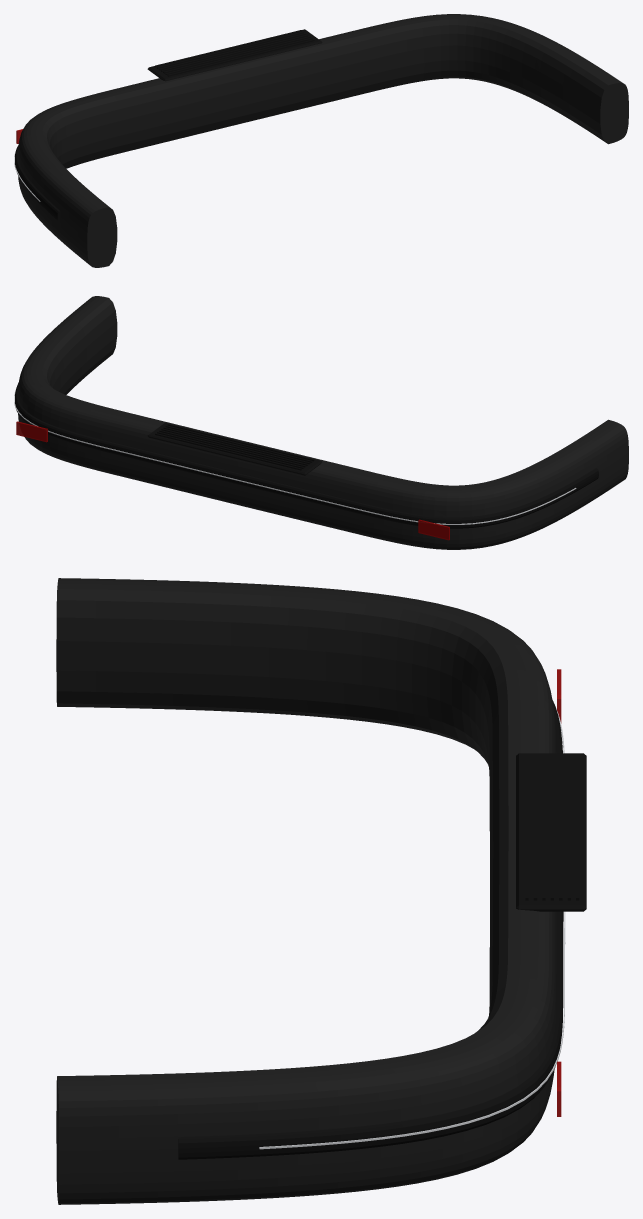
The model's file is para_choque_traseiro_picape.glb.
3 views of the same model, one above another, from view 1: azimuth 30°, elevation 25°; view 2: azimuth 150°, elevation 25°; view 3: azimuth 270°, elevation 25° (orthographic). The views are drawn at different scales.
Visible parts, largest first — view 1: para_choque_traseiro_picape_plastico_preto, para_choque_traseiro_picape_borracha; view 2: para_choque_traseiro_picape_plastico_preto, para_choque_traseiro_picape_borracha, para_choque_traseiro_picape_cromado, para_choque_traseiro_picape_lente_lanterna; view 3: para_choque_traseiro_picape_plastico_preto, para_choque_traseiro_picape_borracha, para_choque_traseiro_picape_cromado.
Boxes of the visible parts, <box> form: para_choque_traseiro_picape_plastico_preto: <box>18,14,628,267</box>; para_choque_traseiro_picape_borracha: <box>15,29,322,221</box>; para_choque_traseiro_picape_plastico_preto: <box>18,296,628,549</box>; para_choque_traseiro_picape_borracha: <box>15,382,598,528</box>; para_choque_traseiro_picape_cromado: <box>14,388,576,524</box>; para_choque_traseiro_picape_lente_lanterna: <box>16,421,449,540</box>; para_choque_traseiro_picape_plastico_preto: <box>56,578,557,1204</box>; para_choque_traseiro_picape_borracha: <box>178,700,586,1159</box>; para_choque_traseiro_picape_cromado: <box>259,709,565,1149</box>.
Bounding box in the file's own units: 1.78 × 0.194 × 0.7534.
